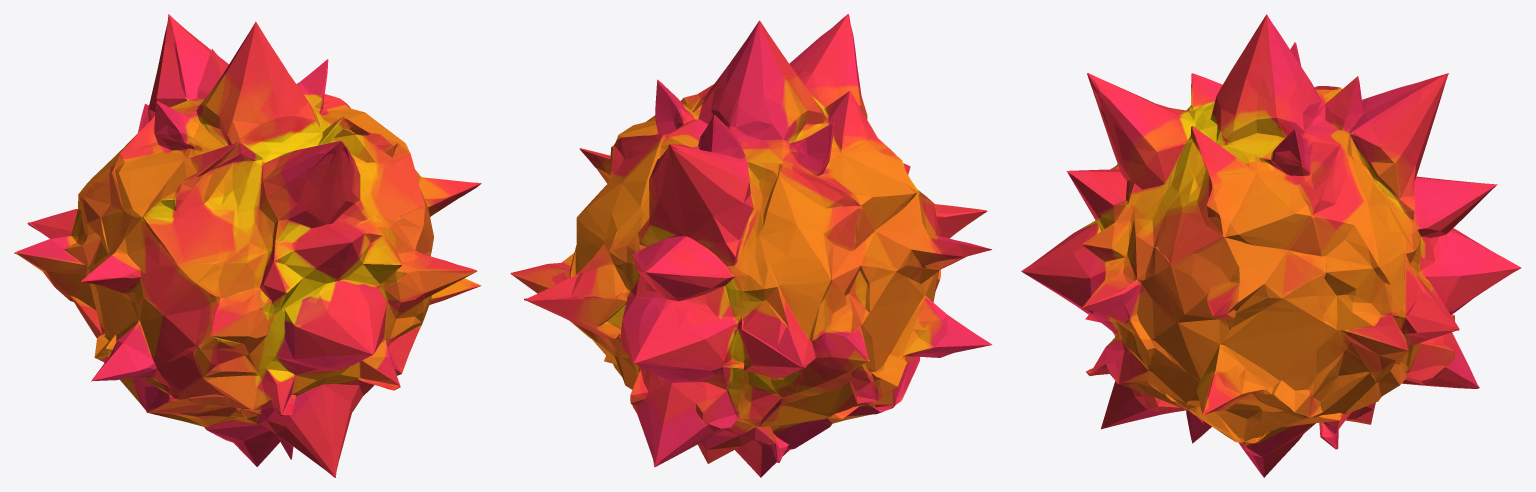
File: fireball.fbx
3 renders of one model, left to right at view 1: azimuth 30°, elevation 25°; view 2: azimuth 150°, elevation 25°; view 3: azimuth 270°, elevation 25°, orthographic. The views are drawn at different scales.
Visible parts, largest first — view 1: tripo_node_3a458c86; view 2: tripo_node_3a458c86; view 3: tripo_node_3a458c86.
Boxes of the visible parts, left/top/right/bottom form: tripo_node_3a458c86: left=14, top=14, right=481, bottom=477; tripo_node_3a458c86: left=510, top=14, right=992, bottom=477; tripo_node_3a458c86: left=1021, top=14, right=1521, bottom=477.
Size of the model in its own units: 94.33 by 100 by 97.98.
1 material, 1 textured.
